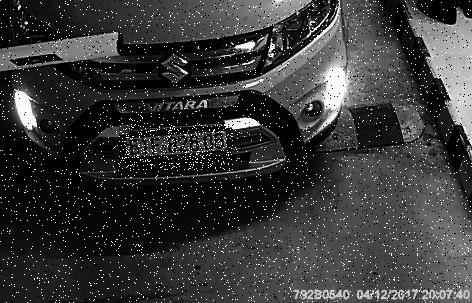License-plate: (121, 126, 235, 173)
